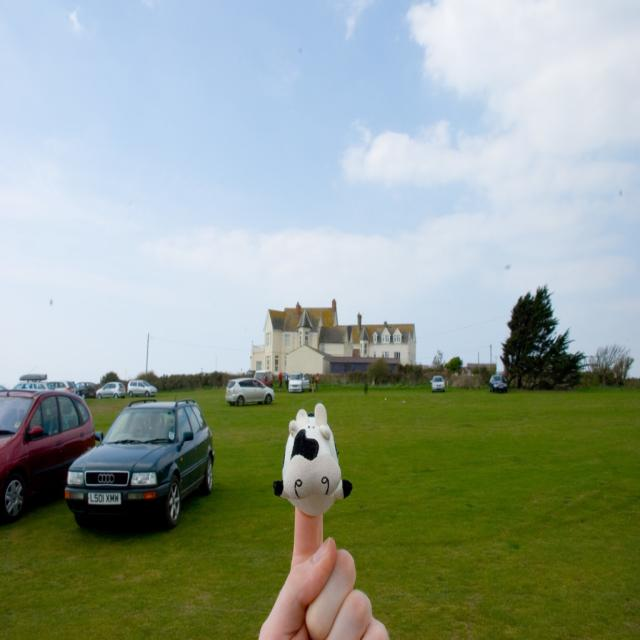panda: (270, 399, 354, 518)
